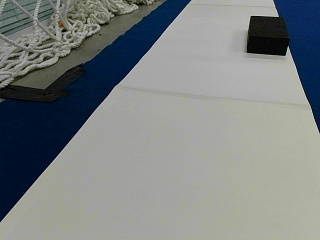block: (247, 15, 288, 55)
